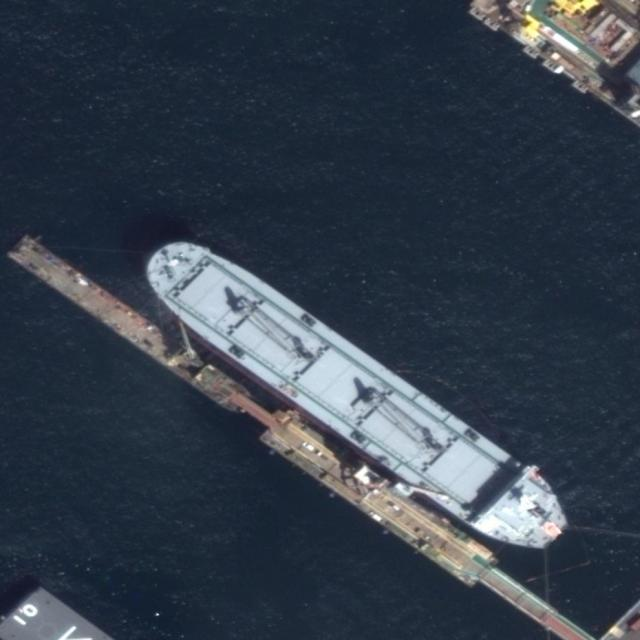Cargo: (127, 218, 584, 575)
